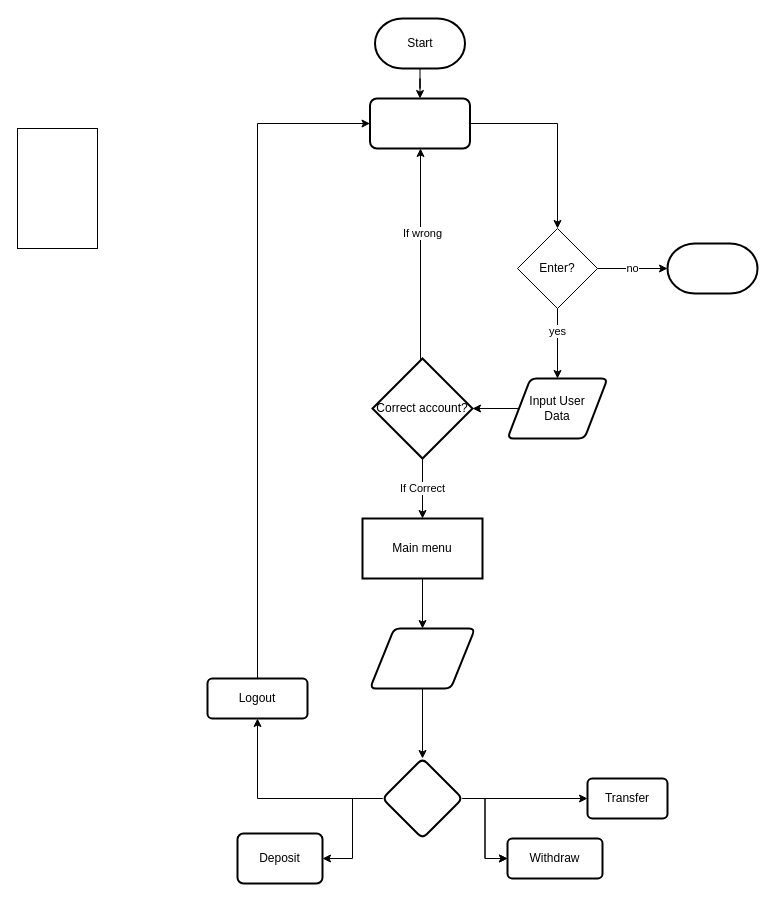
The diagram is 776 pixels wide and 901 high, and some of its shapes have lost their labels. The shapes that lost their labels are listed below. From the top down, each one's centre as x and y in pixels, then its label:
[419,123]: Login Menu
[57,188]: Daftar fitur - Login - deposit - withdraw -transfer
[712,268]: End
[422,658]: Choosing menu
[422,798]: Choose?
